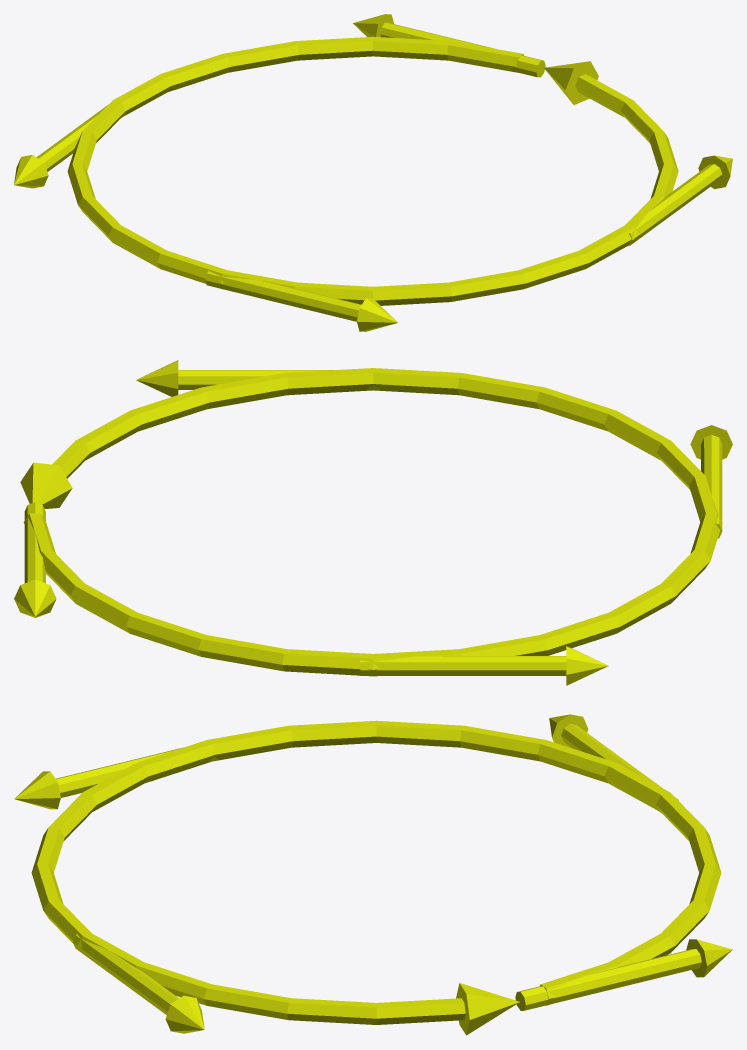
The model's file is MagneticFieldAroundWire.gltf.
3 views of the same model, one above another, from view 1: azimuth 30°, elevation 25°; view 2: azimuth 150°, elevation 25°; view 3: azimuth 270°, elevation 25° (orthographic). The views are drawn at different scales.
Visible parts, largest first — view 1: Torus.001; view 2: Torus.001; view 3: Torus.001.
Boxes of the visible parts, x1,y1,x2,y2 form: Torus.001: [14, 14, 732, 331]; Torus.001: [14, 360, 732, 685]; Torus.001: [14, 714, 732, 1035].
Size of the model in its own units: 6.63 by 0.4157 by 6.46.
